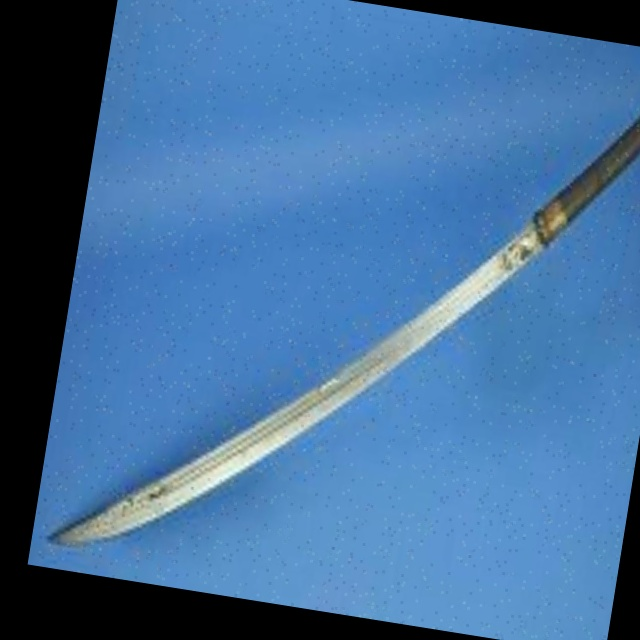Sharp-Object: (40, 0, 640, 632)
